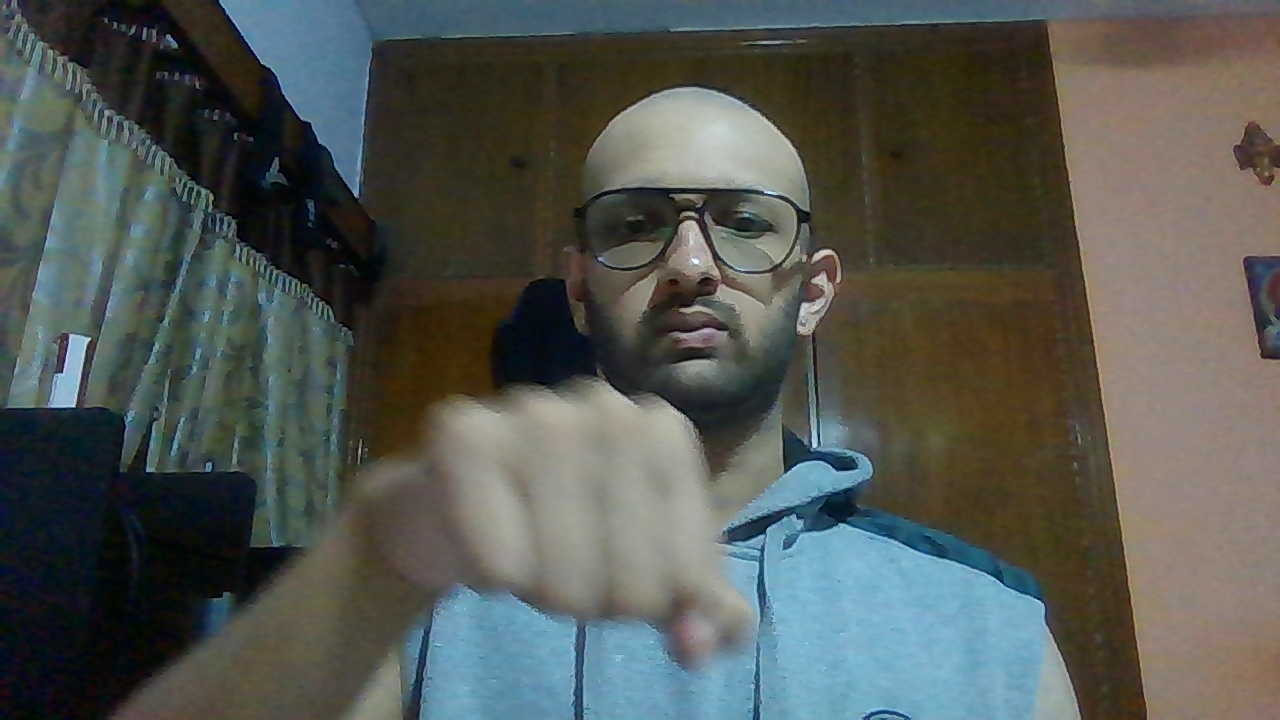Yes: (403, 373, 768, 664)
